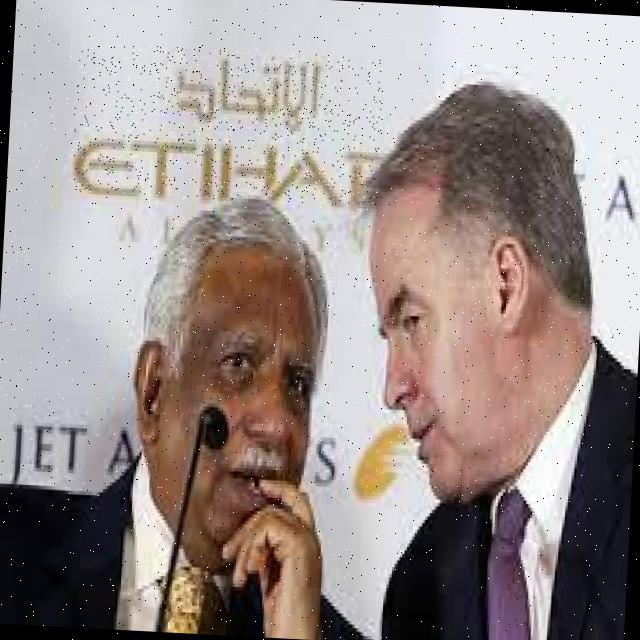Etihad Airways: (71, 42, 386, 208)
